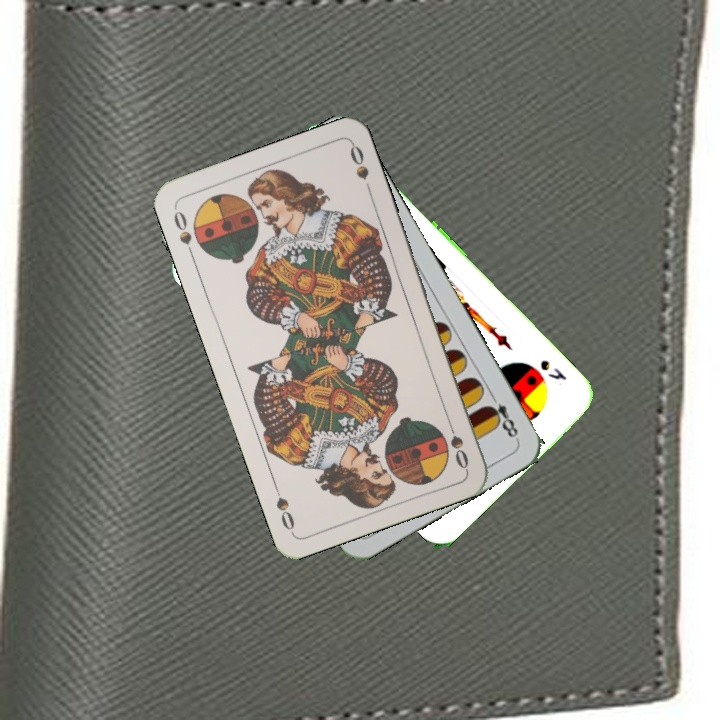E8: (482, 389, 522, 443)
SK: (535, 356, 569, 383)
SO: (442, 414, 471, 472), (169, 204, 197, 261)
